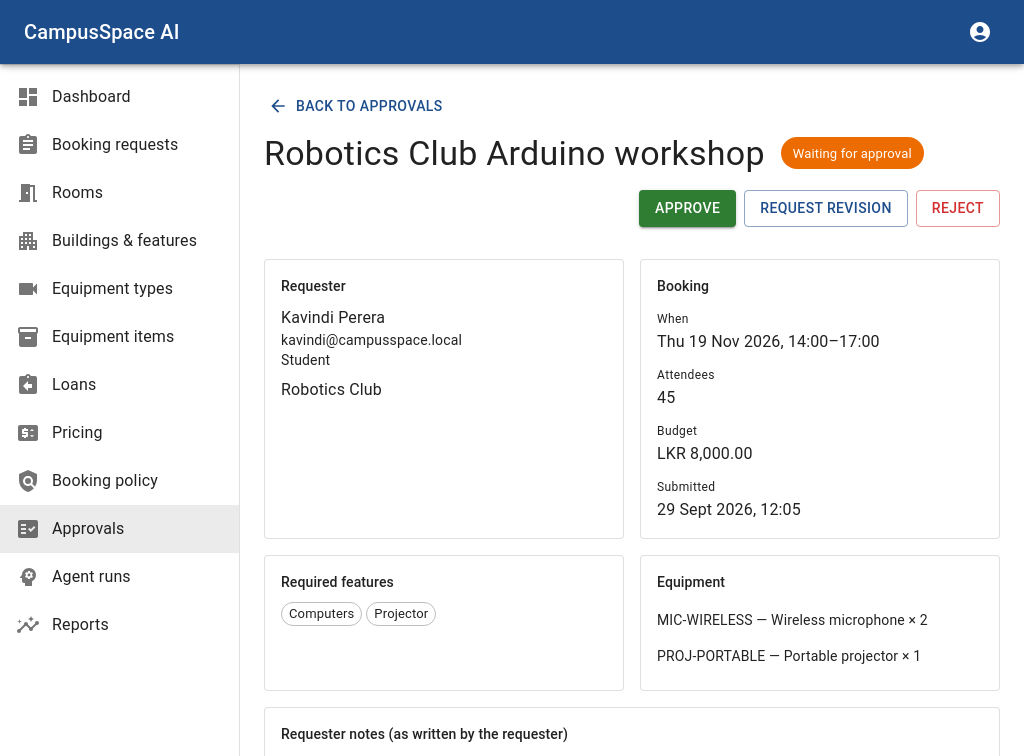
ApprovalDetailPage › approve 409 (the time is no longer valid) shows the server message exactly as sent and refetches
Click the button "Approve" at (688, 209), box [639,190,736,227]
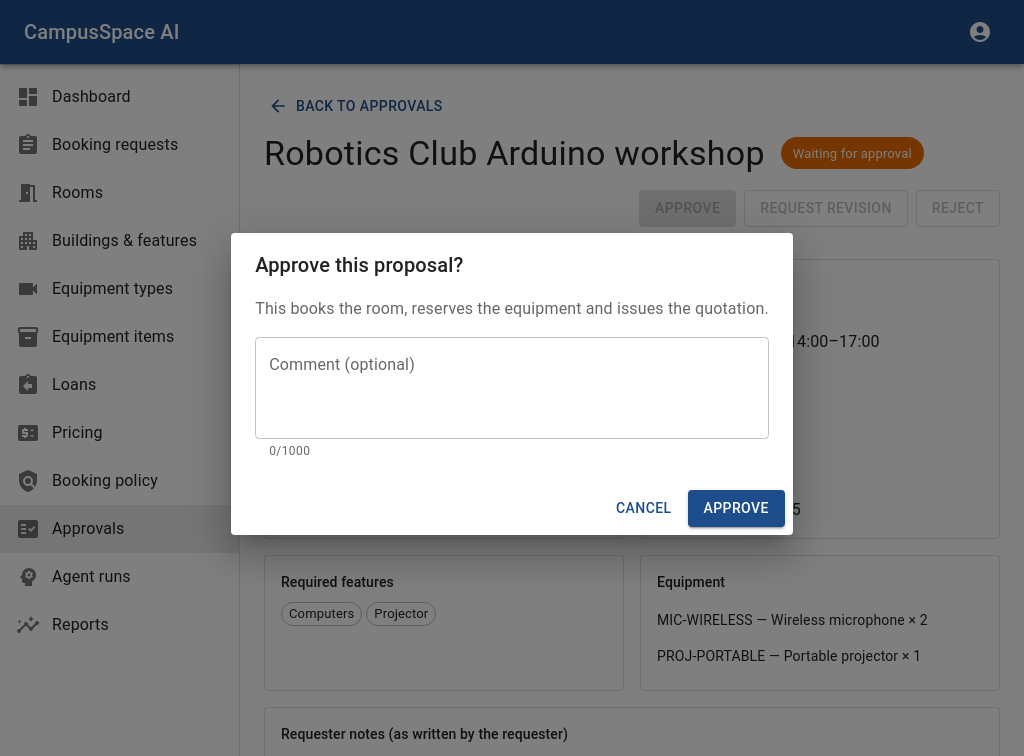
Click the button "Approve" at (736, 508), box [688,490,785,527]
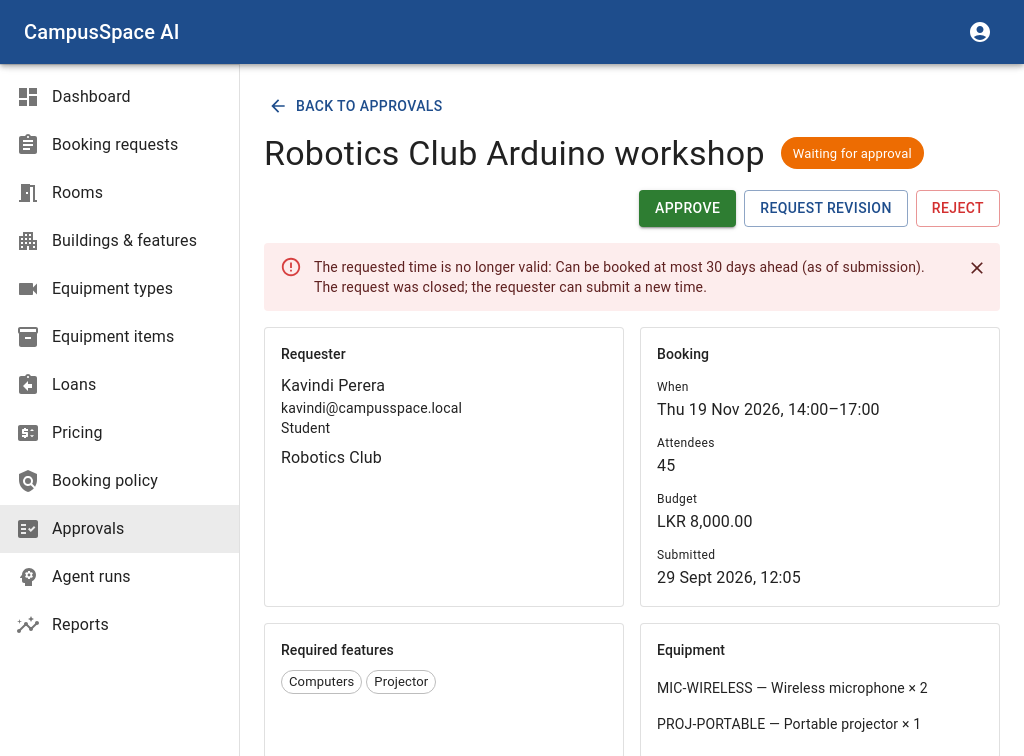
Check: the message with test id "decision-conflict" shows "The requested time is no longer valid: Can be booked at most 30 days ahead (as of submission). The request was closed; the requester can submit a new time.", box [314,259,925,295]
Check: the dialog is gone
